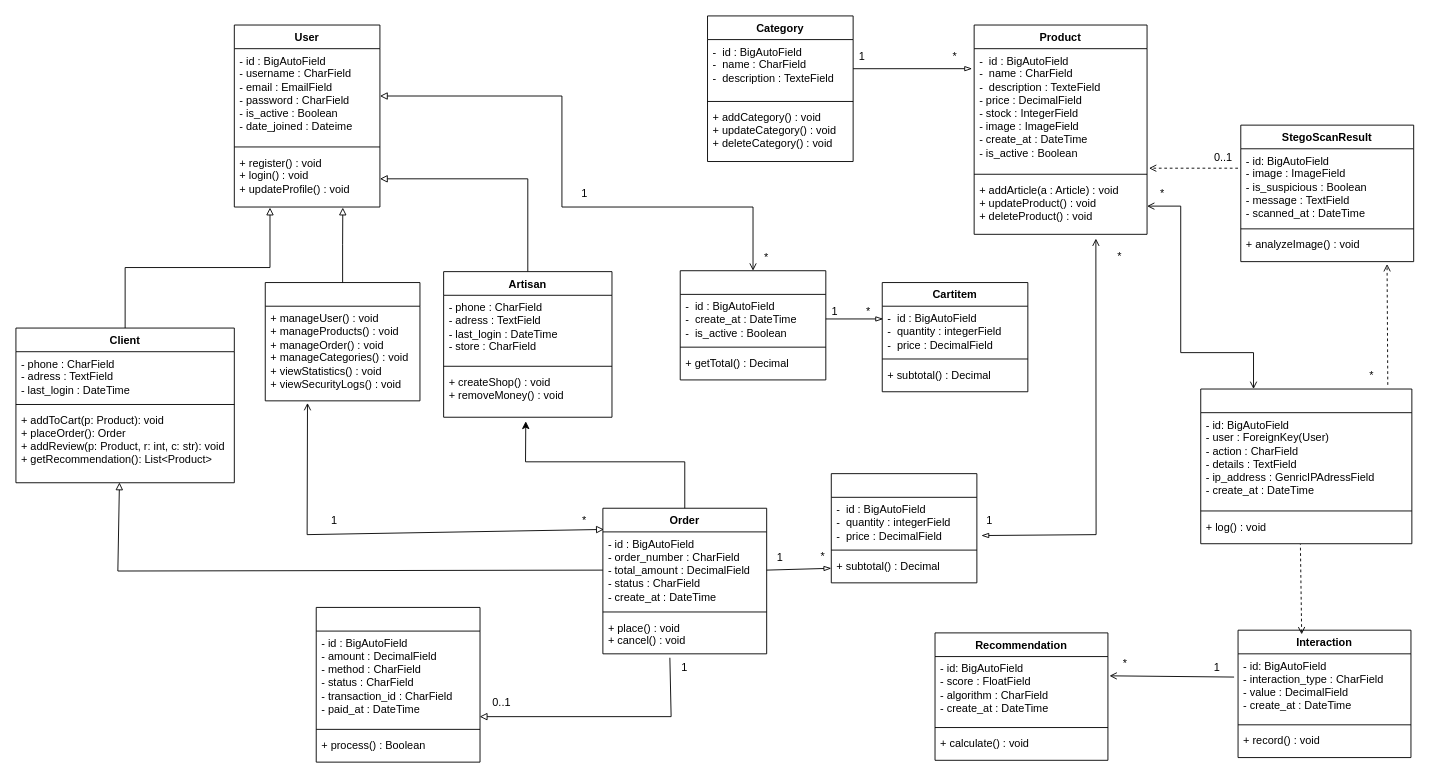
Image size: 1430x781. Some labels were removed from this diagram. The box of each missing label's shape, as (x1, y1, x2, y2) in pixels:
Admin: (264, 282, 420, 401)
Cart: (679, 270, 826, 380)
Orderitem: (830, 473, 977, 583)
Payment: (315, 607, 480, 762)
SecurityLog: (1200, 388, 1412, 544)
